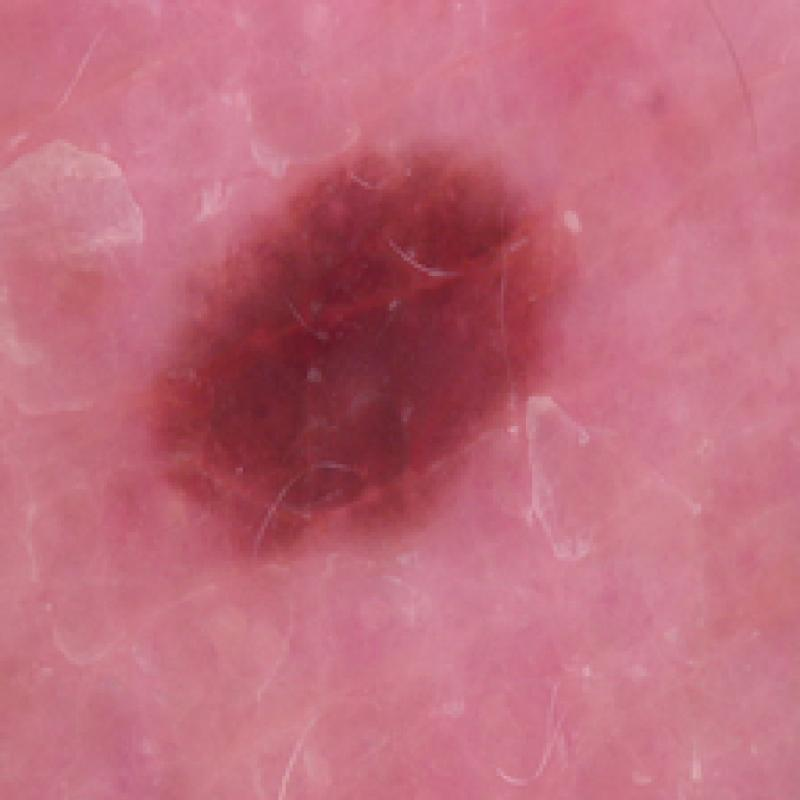benign: (138, 133, 603, 583)
